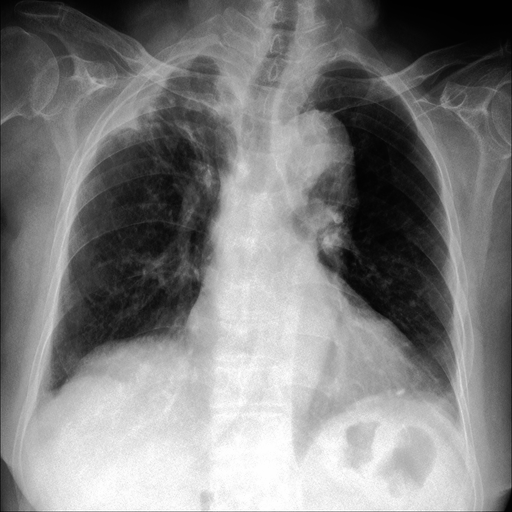Calcification: (85, 41, 248, 176), (107, 59, 170, 142), (415, 385, 481, 454)
Cardiomegaly: (86, 52, 242, 152)
Consolidation: (209, 101, 357, 244)
Infiltration: (85, 41, 248, 176)
Lung Opacity: (142, 83, 204, 166), (377, 376, 422, 406)
Nodule/Mass: (167, 278, 456, 419)
Pneumothorax: (85, 41, 248, 176), (142, 83, 204, 166)
